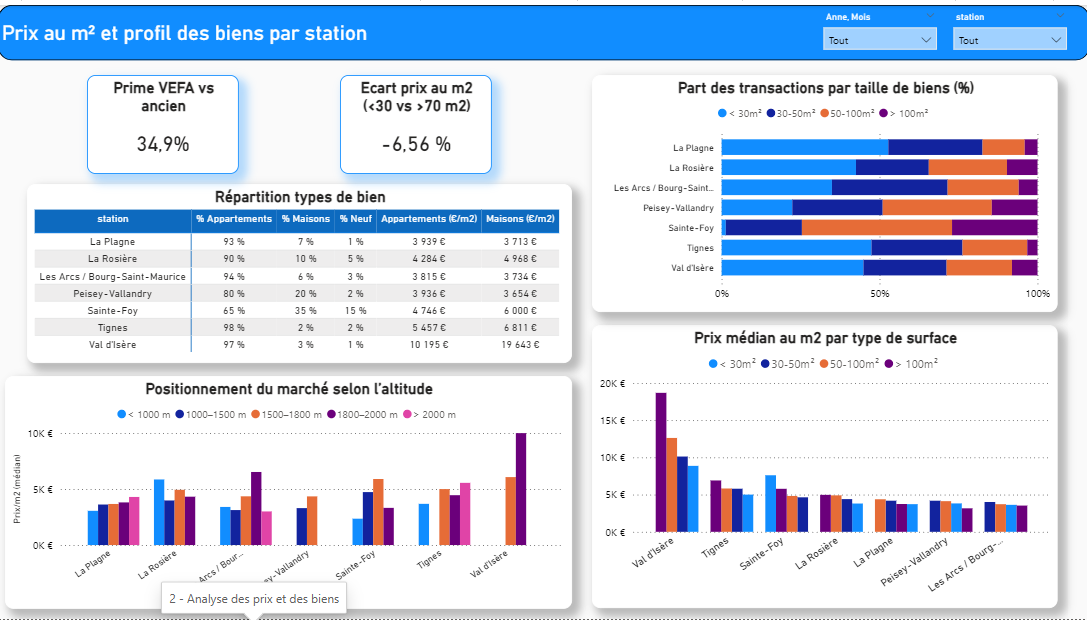

Layout of this report page (visuals, bound fields, positions):
{"tool":"powerbi","page":{"name":"2 - Analyse des prix et des biens","canvas":[1280,720],"ordinal":1},"visuals":[{"type":"shape","box":[0,0,1280,65],"z":0},{"type":"slicer","title":"Station","fields":{"Values":["Calendrier.Anne Hiérarchie.Anne","Calendrier.Anne Hiérarchie.Mois"]},"box":[957.5,2.5,152.5,56.2],"z":1000},{"type":"slicer","title":"Station","fields":{"Values":["Stations.station"]},"box":[1110,2.5,152.5,56.2],"z":2000},{"type":"pivotTable","title":"Répartition types de bien","fields":{"Rows":["Stations.station"],"Values":["mesure.% Appartements","mesure.% Maisons","mesure.% Neuf","mesure.Prix médian appartement","mesure.Prix médian maison"]},"box":[34,209.9,639.1,209.9],"z":3000},{"type":"clusteredColumnChart","title":"Prix médian au m2 par type de surface","fields":{"Category":["Stations.station"],"Y":["dvf_clean.Prix médian"],"Series":["dvf_clean.Tranche_surface"]},"box":[696.5,375.2,546.4,331.9],"z":4000},{"type":"hundredPercentStackedBarChart","title":"Part des transactions par taille de biens (%)","fields":{"Category":["Stations.station"],"Y":["dvf_clean.Volume transactions"],"Series":["dvf_clean.Tranche_surface"]},"box":[696.5,82.1,546.4,277.9],"z":5000},{"type":"cardVisual","title":"Prime VEFA vs ancien","fields":{"Data":["dvf_clean.Ecart prix neuf / ancien"]},"box":[104.4,82.1,178.2,116.1],"z":6000},{"type":"cardVisual","title":"Ecart prix au m2 (<30 vs >70 m2)","fields":{"Data":["dvf_clean.Ecart prix petits vs grands"]},"box":[400.5,82.1,178.2,116.1],"z":7000},{"type":"clusteredColumnChart","title":"Positionnement du marché selon l’altitude","fields":{"Category":["Stations.station"],"Y":["mesure.Prix médian"],"Series":["dvf_clean.Tranche_altitude"]},"box":[8.2,435,664.9,273.2],"z":8000}]}

Visuals, with their boxes on the page's 1280x720 design canvas (x1, y1, x2, y2). These are canvas units, not pixel positions in the 1087x620 screenshot, which may show the page scaled, cropped or inside an application window:
shape: <box>0,0,1280,65</box>
"Station" slicer: <box>958,2,1110,59</box>
"Station" slicer: <box>1110,2,1262,59</box>
"Répartition types de bien" pivotTable: <box>34,210,673,420</box>
"Prix médian au m2 par type de surface" clusteredColumnChart: <box>696,375,1243,707</box>
"Part des transactions par taille de biens (%)" hundredPercentStackedBarChart: <box>696,82,1243,360</box>
"Prime VEFA vs ancien" cardVisual: <box>104,82,283,198</box>
"Ecart prix au m2 (<30 vs >70 m2)" cardVisual: <box>400,82,579,198</box>
"Positionnement du marché selon l’altitude" clusteredColumnChart: <box>8,435,673,708</box>
